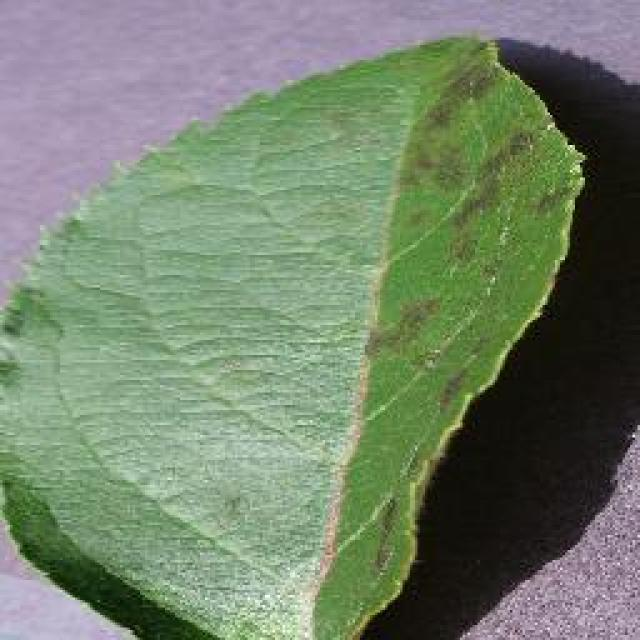apple scab disease: (0, 30, 588, 638)
